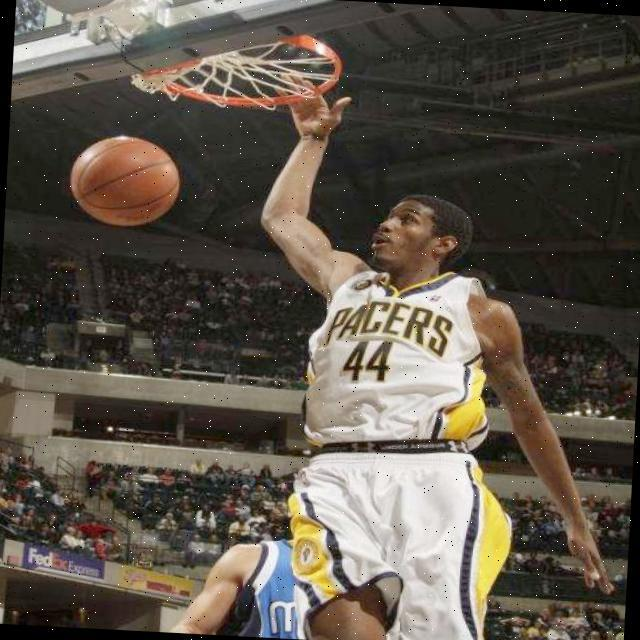ball: (68, 132, 184, 230)
hoop: (129, 33, 343, 106)
